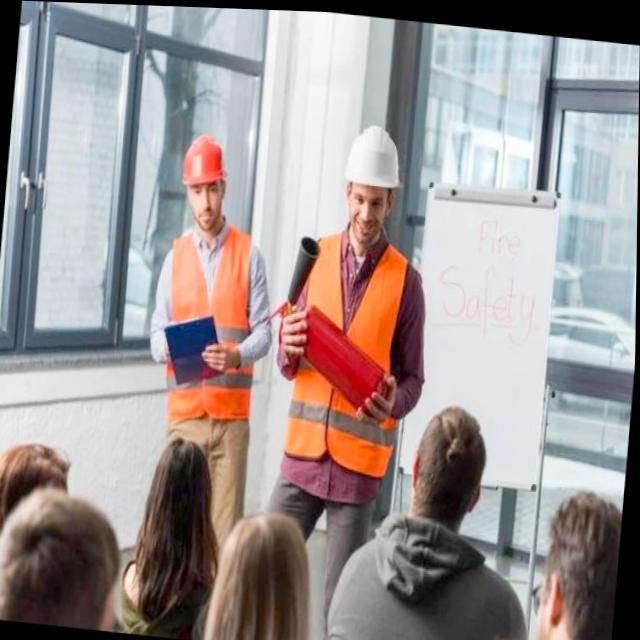FireExtinguisher: (258, 219, 408, 424)
